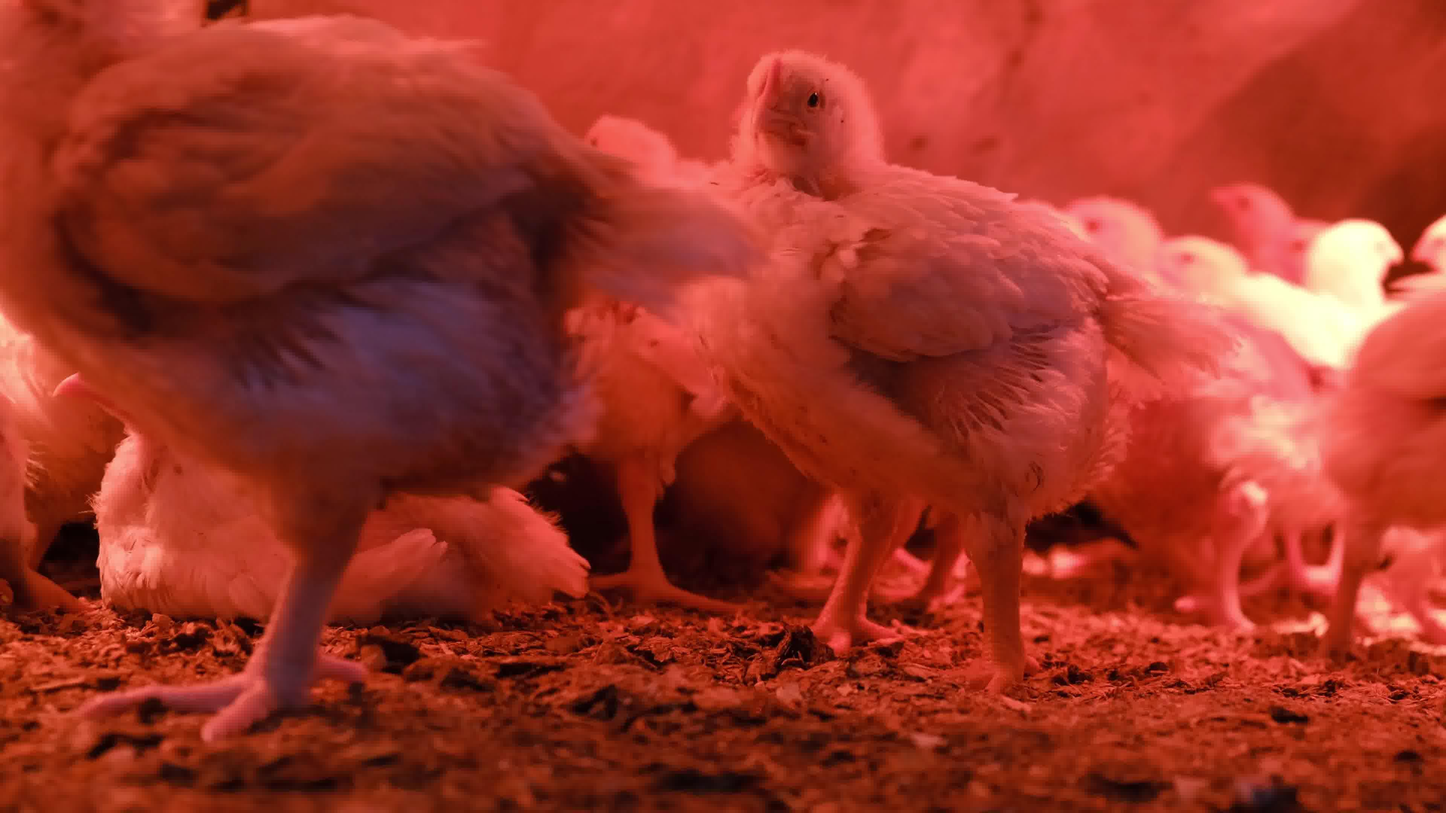AbNormal: (57, 335, 584, 619), (2, 369, 79, 628)
Normal: (0, 0, 766, 745), (712, 47, 1256, 694), (1062, 200, 1323, 643), (556, 104, 771, 634), (1326, 292, 1446, 673), (1170, 224, 1329, 357), (1205, 174, 1337, 285), (1314, 217, 1399, 366), (1414, 213, 1446, 285)
